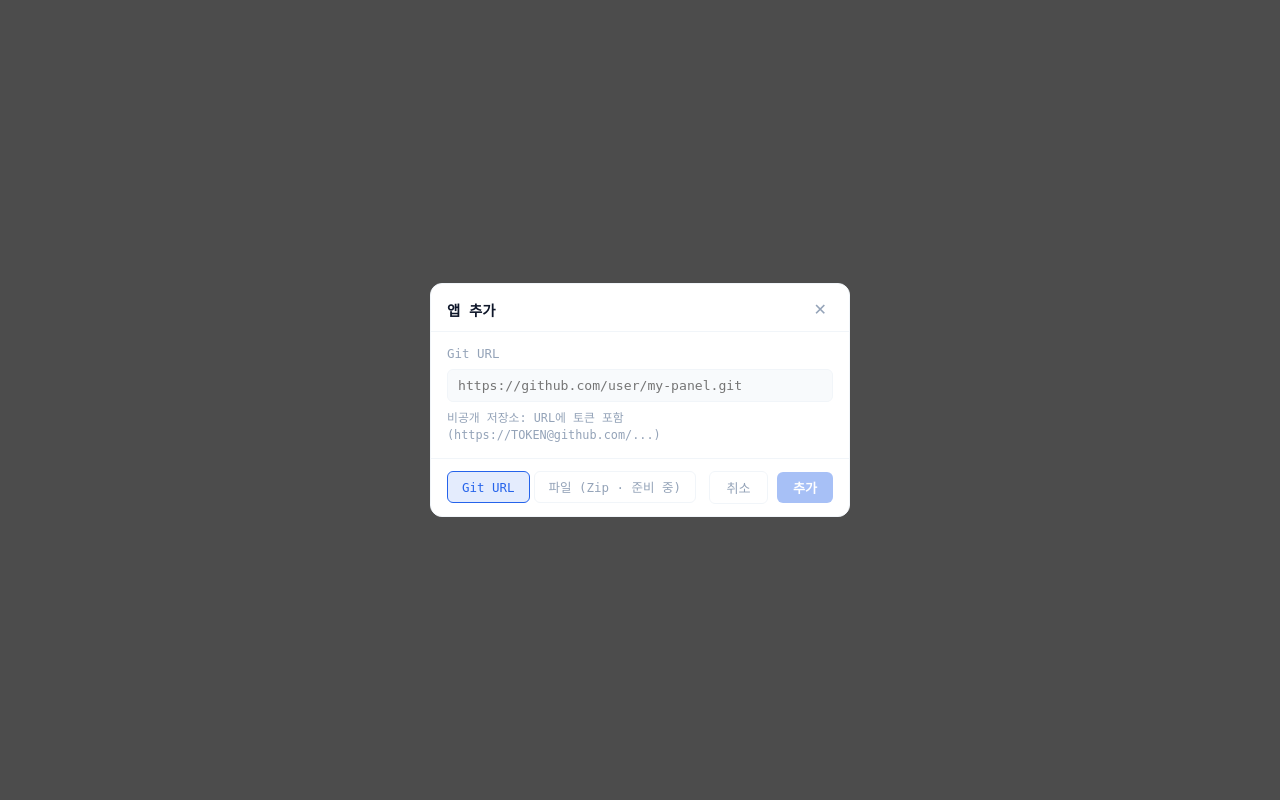
Test: AppInstallDialog — zip gating (#358 / #359) › Git URL tab: Add is disabled until a URL is entered, then enabled
expect the button "추가" is disabled: met, box [777,472,833,503]
Type "https://github.com/example/my-panel.git" into the field with placeholder "https://github.com/user/my-panel.git".
click(640, 386); type("https://github.com/example/my-panel.git")  # box [447,369,833,402]
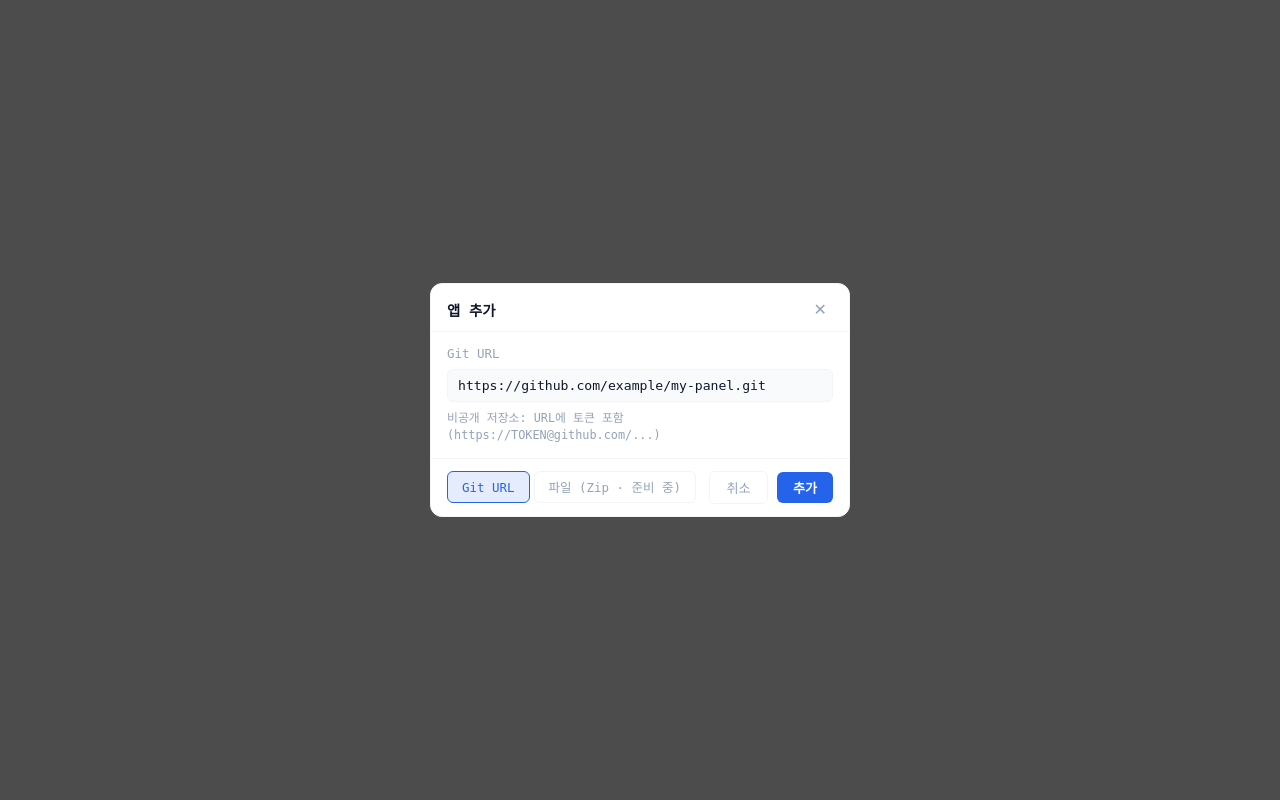
expect the button "추가" is enabled: met, box [777,472,833,503]
